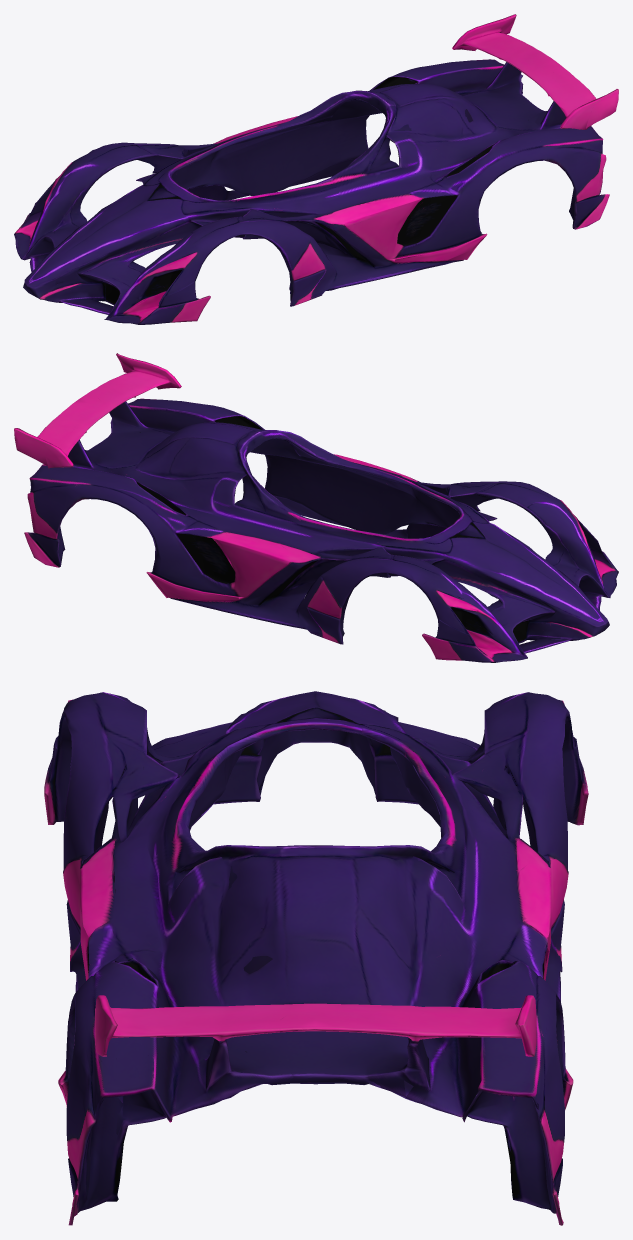
Rendered from phantom.glb.
3 renders of one model, top to bottom at view 1: azimuth 30°, elevation 25°; view 2: azimuth 150°, elevation 25°; view 3: azimuth 270°, elevation 25°, orthographic. The views are drawn at different scales.
Parts seen in each view (by area): view 1: geometry_0; view 2: geometry_0; view 3: geometry_0.
Boxes of the visible parts, x1,y1,x2,y2 form: geometry_0: [14, 14, 618, 324]; geometry_0: [14, 353, 618, 662]; geometry_0: [44, 691, 588, 1225].
Size of the model in its own units: 0.9492 by 0.2139 by 0.4146.
Materials: 1 (1 with a texture image).
